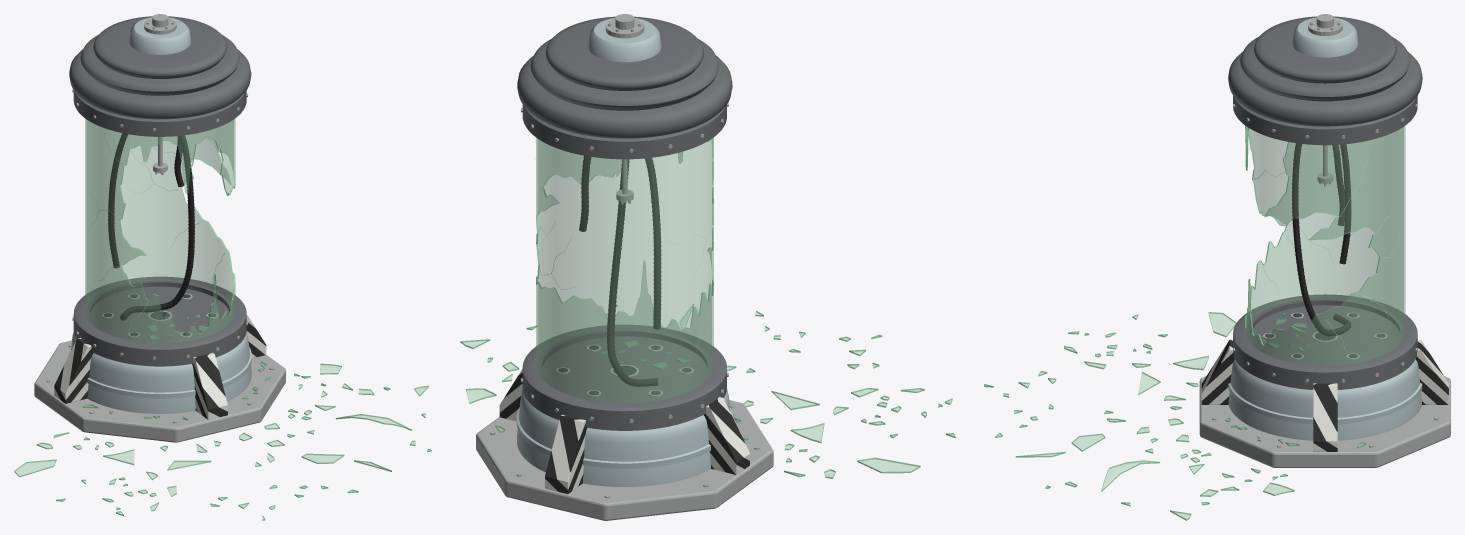
Rendered from containment_chamber.glb.
3 renders of one model, left to right at view 1: azimuth 30°, elevation 25°; view 2: azimuth 150°, elevation 25°; view 3: azimuth 270°, elevation 25°, orthographic. The views are drawn at different scales.
Parts seen in each view (by area): view 1: ChamberGlass, ChamberCollars, ChamberCap, ChamberPlinth, ChamberHousing, ChamberShards, ChamberFeet, ChamberHoses, ChamberNeck, ChamberSteelDetails; view 2: ChamberGlass, ChamberCollars, ChamberCap, ChamberPlinth, ChamberHousing, ChamberFeet, ChamberShards, ChamberHoses, ChamberNeck, ChamberSteelDetails; view 3: ChamberGlass, ChamberCollars, ChamberCap, ChamberHousing, ChamberPlinth, ChamberShards, ChamberFeet, ChamberHoses, ChamberNeck, ChamberSteelDetails.
Part boxes in pixels (left/top/right/bottom): ChamberGlass: left=85, top=118, right=235, bottom=343; ChamberCollars: left=73, top=90, right=246, bottom=366; ChamberCap: left=69, top=16, right=251, bottom=119; ChamberPlinth: left=34, top=340, right=285, bottom=442; ChamberHousing: left=69, top=331, right=251, bottom=413; ChamberShards: left=14, top=314, right=431, bottom=520; ChamberFeet: left=54, top=314, right=266, bottom=419; ChamberHoses: left=108, top=133, right=194, bottom=320; ChamberNeck: left=129, top=17, right=190, bottom=54; ChamberSteelDetails: left=46, top=14, right=274, bottom=423; ChamberGlass: left=536, top=138, right=713, bottom=403; ChamberCollars: left=522, top=104, right=726, bottom=430; ChamberCap: left=517, top=16, right=732, bottom=138; ChamberPlinth: left=476, top=400, right=773, bottom=520; ChamberHousing: left=516, top=389, right=732, bottom=486; ChamberFeet: left=499, top=369, right=749, bottom=493; ChamberShards: left=460, top=303, right=955, bottom=478; ChamberHoses: left=579, top=155, right=661, bottom=386; ChamberNeck: left=588, top=18, right=661, bottom=62; ChamberSteelDetails: left=490, top=14, right=759, bottom=498; ChamberGlass: left=1245, top=125, right=1405, bottom=365; ChamberCollars: left=1233, top=96, right=1417, bottom=389; ChamberCap: left=1228, top=16, right=1422, bottom=126; ChamberHousing: left=1228, top=359, right=1422, bottom=440; ChamberPlinth: left=1199, top=376, right=1450, bottom=467; ChamberShards: left=984, top=312, right=1366, bottom=520; ChamberFeet: left=1201, top=339, right=1448, bottom=451; ChamberHoses: left=1292, top=143, right=1351, bottom=336; ChamberNeck: left=1292, top=17, right=1358, bottom=57; ChamberSteelDetails: left=1212, top=14, right=1438, bottom=447.
Size of the model in its own units: 2.83 by 2.52 by 2.68.
